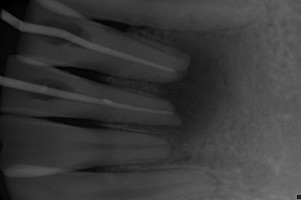Furcation Involvement: (156, 36, 238, 141)
